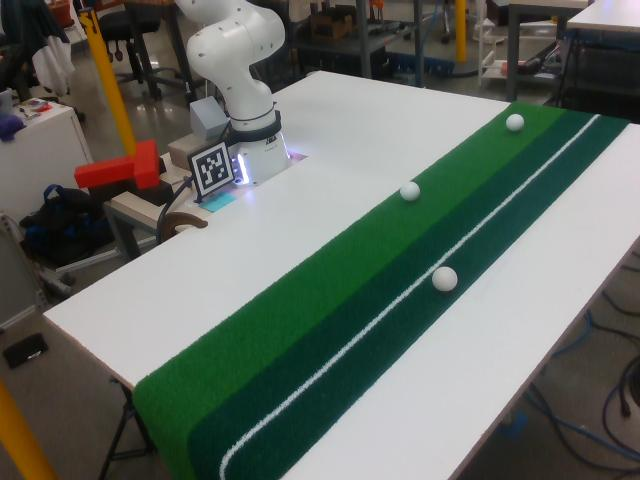golf_balls: (432, 267, 457, 291), (401, 182, 420, 200), (507, 114, 524, 131)
